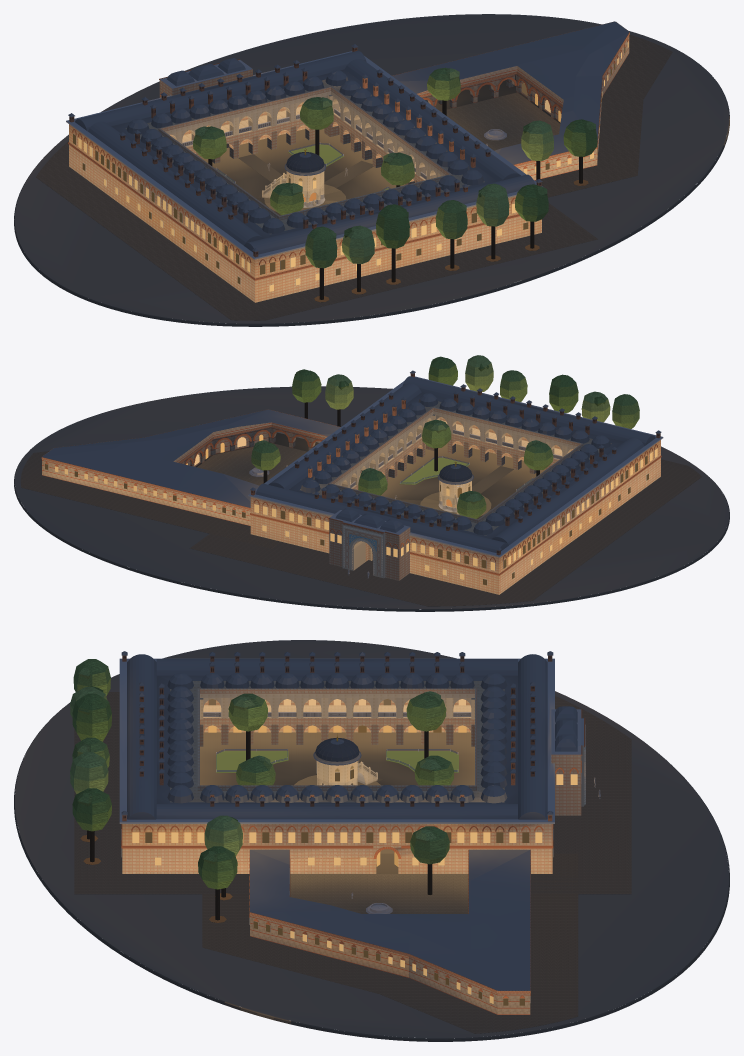
Rendered from koza-han_v14_night_sunum.glb.
3 views of the same model, one above another, from view 1: azimuth 30°, elevation 25°; view 2: azimuth 150°, elevation 25°; view 3: azimuth 270°, elevation 25° (orthographic). The views are drawn at different scales.
Visible parts, largest first — view 1: Zemin_Kaide, Cevre_Doseme, Cati, Govde_Dis, Ic_Koza, Kubbe_Avlu, Avlu_Zemin, Avlu_Revak, Baca, Avlu_Agac, Cephe, Portal (+12 smaller); view 2: Zemin_Kaide, Cevre_Doseme, Ic_Koza, Cati, Govde_Dis, Kubbe_Avlu, Avlu_Zemin, Avlu_Revak, Portal, Baca, Avlu_Agac, Cephe (+12 smaller); view 3: Zemin_Kaide, Cevre_Doseme, Cati, Ic_Koza, Govde_Dis, Avlu_Zemin, Kubbe_Avlu, Avlu_Revak, Avlu_Agac, Baca, Cephe, Portal (+11 smaller).
Boxes of the visible parts, box(x1,y1,x2,y2) form: Zemin_Kaide: box(14, 14, 729, 326); Cevre_Doseme: box(36, 35, 672, 320); Cati: box(66, 50, 542, 259); Govde_Dis: box(69, 69, 541, 302); Ic_Koza: box(392, 21, 629, 180); Kubbe_Avlu: box(126, 70, 483, 233); Avlu_Zemin: box(201, 76, 560, 215); Avlu_Revak: box(125, 79, 484, 234); Baca: box(68, 44, 542, 257); Avlu_Agac: box(193, 67, 460, 215); Cephe: box(72, 92, 528, 291); Portal: box(159, 58, 252, 97); Zemin_Kaide: box(14, 386, 729, 611); Cevre_Doseme: box(20, 451, 701, 606); Ic_Koza: box(41, 409, 340, 525); Cati: box(248, 376, 663, 557); Govde_Dis: box(250, 392, 660, 594); Kubbe_Avlu: box(300, 393, 610, 535); Avlu_Zemin: box(195, 432, 545, 519); Avlu_Revak: box(300, 401, 611, 535); Portal: box(328, 508, 410, 580); Baca: box(250, 370, 661, 555); Avlu_Agac: box(251, 419, 553, 518); Cephe: box(253, 444, 657, 585); Zemin_Kaide: box(14, 640, 729, 1041); Cevre_Doseme: box(74, 692, 631, 1033); Cati: box(119, 654, 554, 823); Ic_Koza: box(249, 849, 530, 1014); Govde_Dis: box(122, 675, 552, 873); Avlu_Zemin: box(200, 732, 474, 913); Kubbe_Avlu: box(167, 672, 507, 803); Avlu_Revak: box(170, 681, 504, 802); Avlu_Agac: box(228, 691, 454, 894); Baca: box(121, 651, 553, 821); Cephe: box(121, 760, 581, 865); Portal: box(551, 706, 585, 815).
Bounding box in the file's own units: 158 × 16.92 × 120.
Materials: 44 (19 with a texture image).
